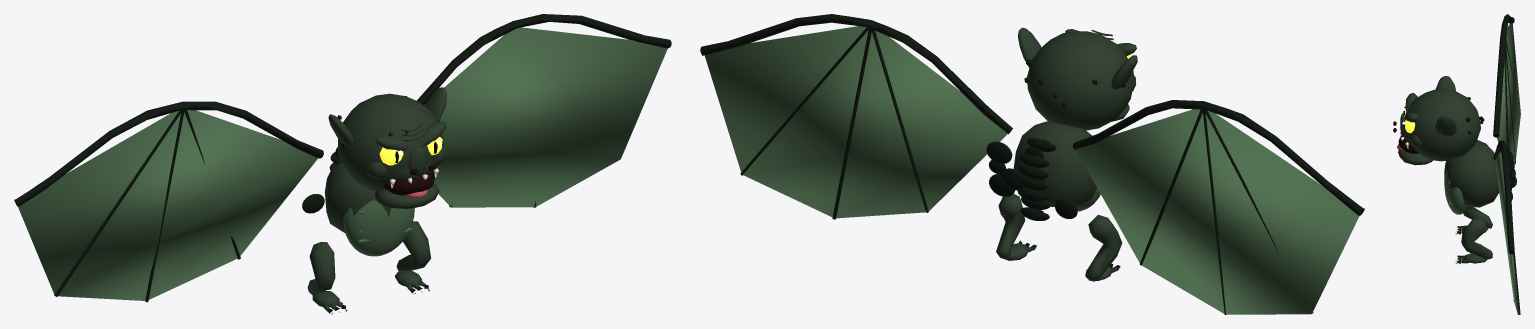
The model's file is flyver_1.glb.
The picture shows the model from 3 angles, left to right: view 1: azimuth 30°, elevation 25°; view 2: azimuth 150°, elevation 25°; view 3: azimuth 270°, elevation 25°; orthographic projection. The views are drawn at different scales.
Visible parts, largest first — view 1: vingeH_net, vingeV_net, hoved_net, krop_net, benH_net, benV_net; view 2: vingeV_net, vingeH_net, hoved_net, krop_net, benH_net, benV_net; view 3: hoved_net, krop_net, vingeH_net, vingeV_net, benV_net, benH_net.
Part boxes in pixels (box(x1,y1,x2,y2)): vingeH_net: box(14, 101, 323, 302); vingeV_net: box(417, 14, 671, 207); hoved_net: box(328, 87, 446, 208); krop_net: box(302, 147, 414, 256); benH_net: box(307, 242, 347, 314); benV_net: box(395, 221, 431, 294); vingeV_net: box(700, 14, 1012, 219); vingeH_net: box(1072, 100, 1364, 314); hoved_net: box(1018, 27, 1137, 130); krop_net: box(986, 121, 1100, 220); benH_net: box(1085, 214, 1122, 281); benV_net: box(996, 193, 1037, 260); hoved_net: box(1393, 76, 1484, 165); krop_net: box(1444, 140, 1516, 214); vingeH_net: box(1493, 14, 1520, 164); vingeV_net: box(1493, 140, 1520, 314); benV_net: box(1455, 217, 1492, 263); benH_net: box(1455, 207, 1492, 234).
Size of the model in its own units: 2.85 by 0.9109 by 0.662.
